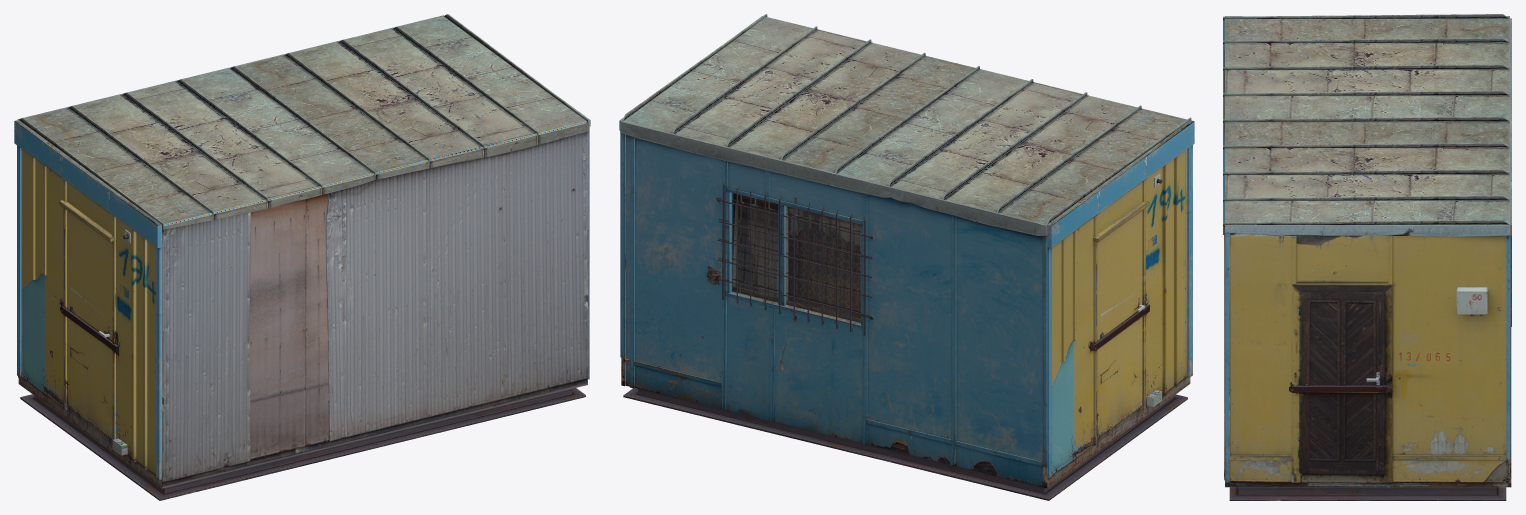
File: sheed.glb
The picture shows the model from 3 angles, left to right: view 1: azimuth 30°, elevation 25°; view 2: azimuth 150°, elevation 25°; view 3: azimuth 270°, elevation 25°; orthographic projection.
Visible parts, largest first — view 1: Object_2; view 2: Object_2; view 3: Object_2.
Boxes of the visible parts, <box> form: Object_2: <box>14,14,590,500</box>; Object_2: <box>619,14,1194,500</box>; Object_2: <box>1223,14,1511,500</box>.
Size of the model in its own units: 202 by 123 by 115.
Materials: 1 (1 with a texture image).
